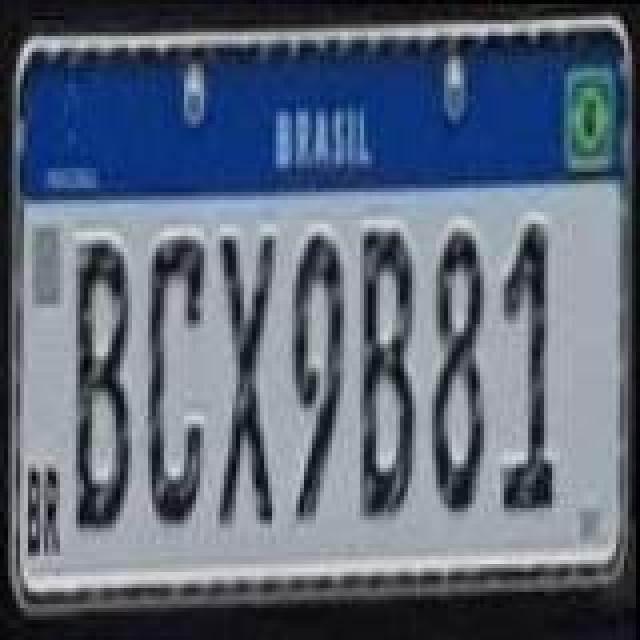1: (498, 218, 554, 518)
8: (430, 222, 486, 518)
9: (292, 230, 344, 526)
B: (72, 234, 132, 534), (362, 224, 418, 524)
C: (146, 230, 202, 526)
X: (218, 230, 274, 526)
